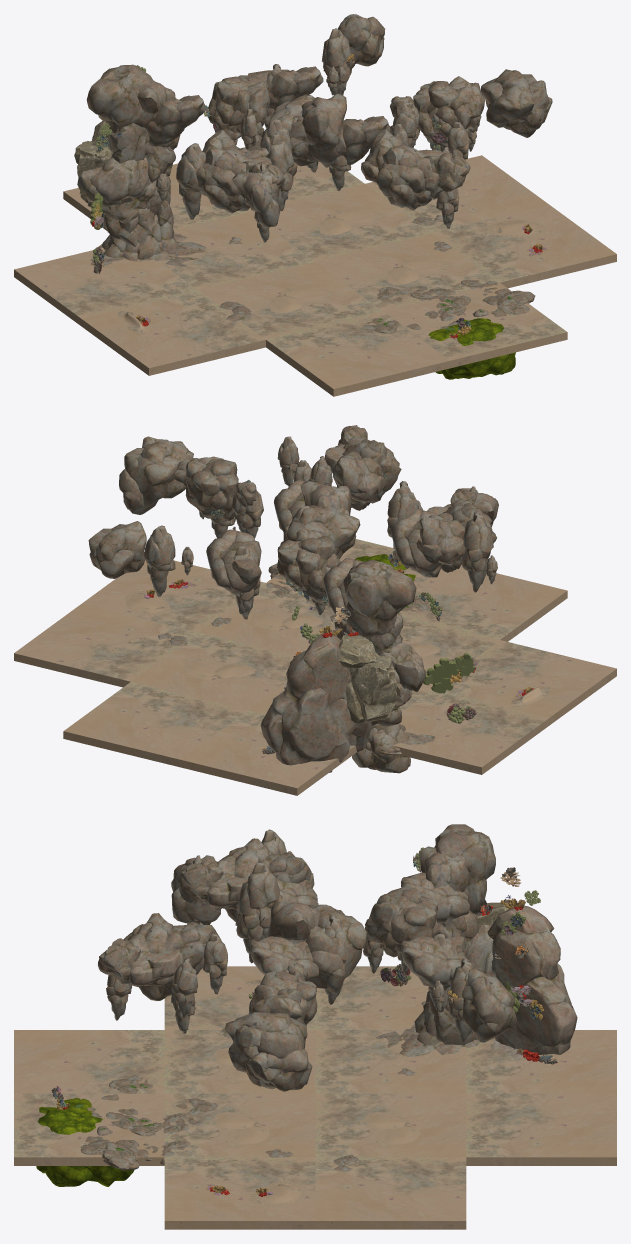
Rendered from arena_nappo.glb.
3 views of the same model, one above another, from view 1: azimuth 30°, elevation 25°; view 2: azimuth 150°, elevation 25°; view 3: azimuth 270°, elevation 25° (orthographic). The views are drawn at different scales.
Parts seen in each view (by area): view 1: arena; view 2: arena; view 3: arena.
Boxes of the visible parts, x1,y1,x2,y2 form: arena: [14, 14, 616, 396]; arena: [14, 425, 616, 795]; arena: [14, 824, 616, 1229].
Bounding box in the file's own units: 64 × 29.21 × 64.
47 materials, 47 textured.
